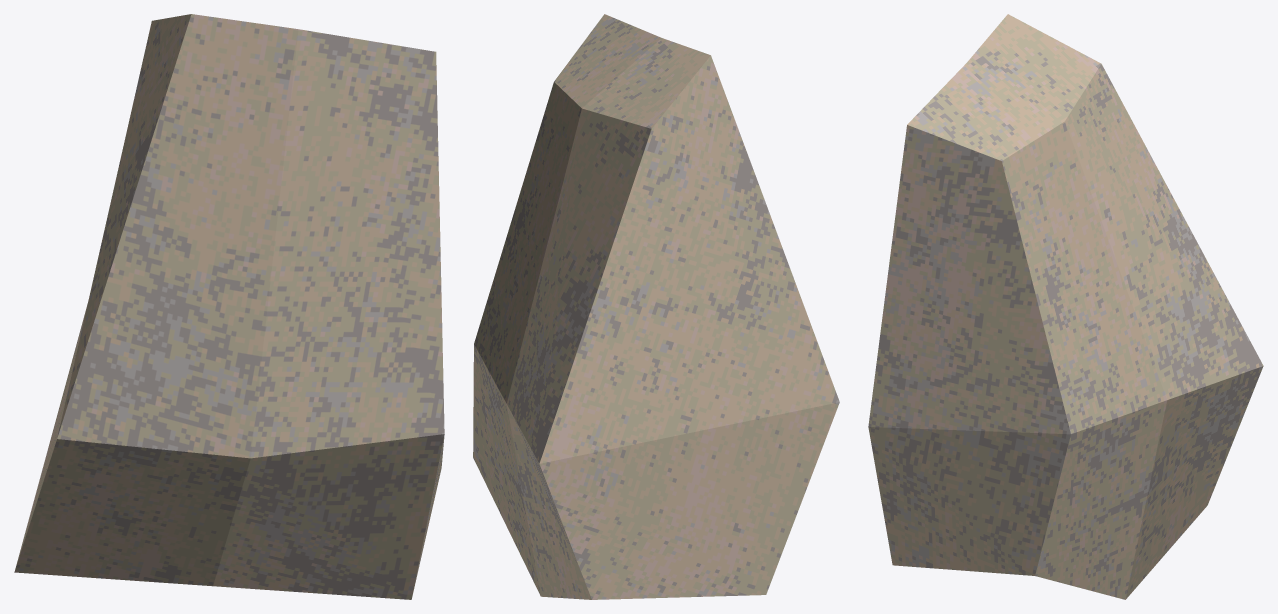
The model's file is Rock1.fbx.
3 renders of one model, left to right at view 1: azimuth 30°, elevation 25°; view 2: azimuth 150°, elevation 25°; view 3: azimuth 270°, elevation 25°, orthographic. The views are drawn at different scales.
Visible parts, largest first — view 1: Cube.002; view 2: Cube.002; view 3: Cube.002.
Part boxes in pixels (bbox=[...]): Cube.002: bbox=[14, 14, 444, 599]; Cube.002: bbox=[473, 14, 839, 599]; Cube.002: bbox=[868, 14, 1263, 599].
Bounding box in the file's own units: 105 × 153 × 104.
